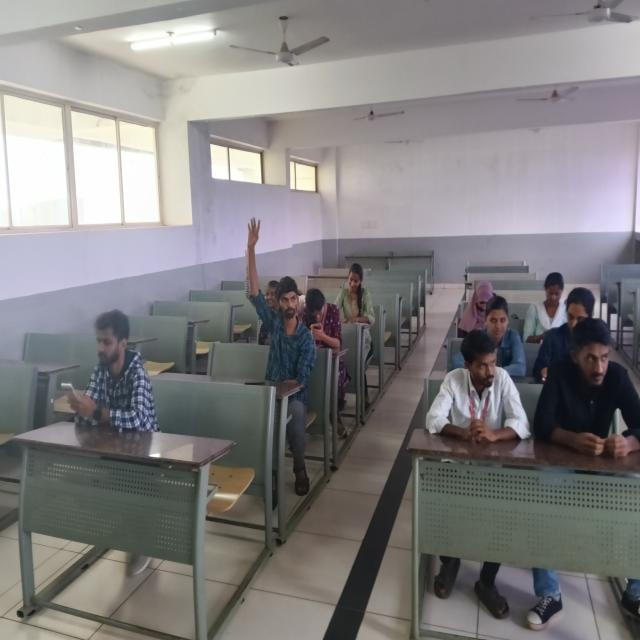Hand Rising: (234, 204, 319, 403)
Using Phone: (55, 297, 157, 434), (300, 284, 344, 351)
Writing: (333, 260, 379, 333)
